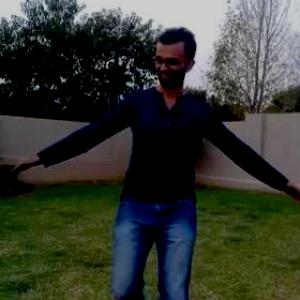land: (20, 31, 269, 299)
